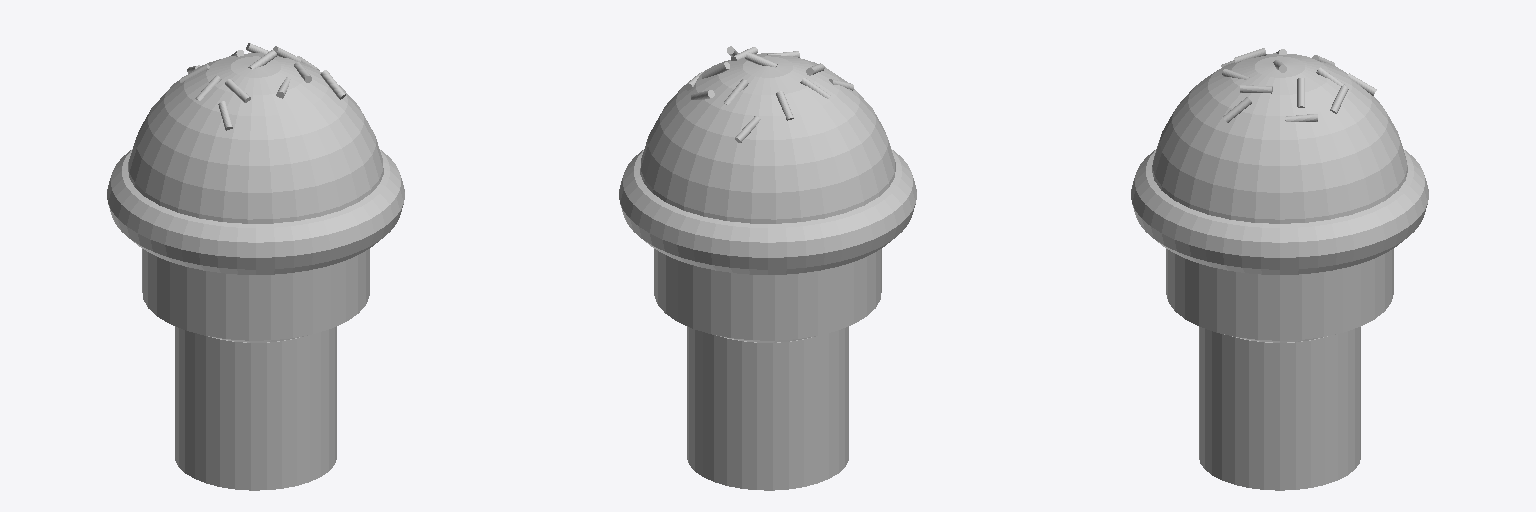
File: Icecream.obj
The picture shows the model from 3 angles: view 1: azimuth 30°, elevation 25°; view 2: azimuth 150°, elevation 25°; view 3: azimuth 270°, elevation 25°; orthographic projection.
Visible parts, largest first — view 1: Icecream; view 2: Icecream; view 3: Icecream.
Part boxes in pixels (bbox=[...]): Icecream: bbox=[107, 43, 404, 490]; Icecream: bbox=[619, 46, 916, 490]; Icecream: bbox=[1131, 48, 1428, 490].
Size of the model in its own units: 3.67 by 5.43 by 3.67.